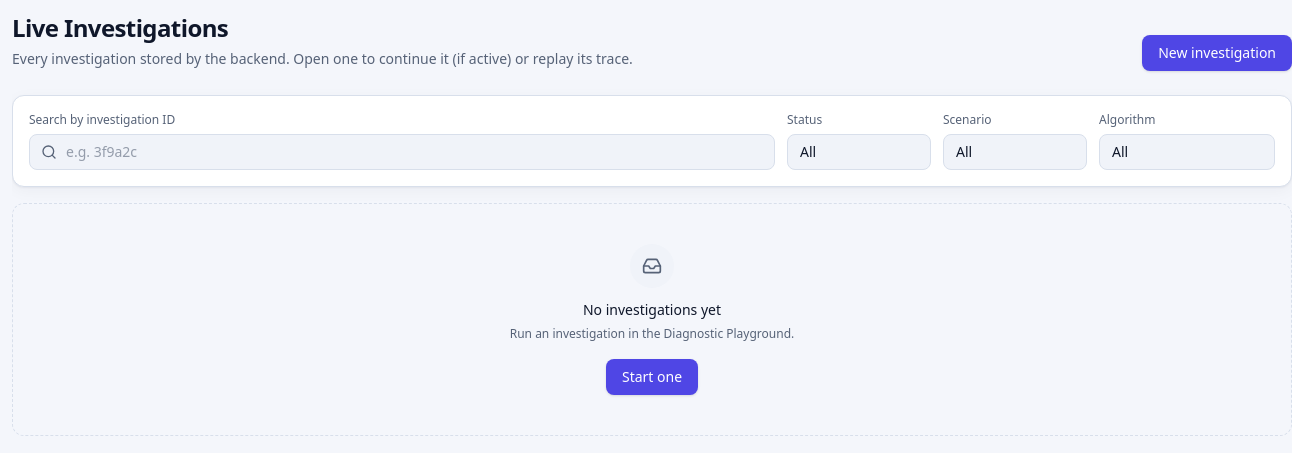
Test case: Investigations › distinguishes 'no data' from 'no matches'
Expected: the text "No investigations yet" is shown, x1=583 y1=300 x2=721 y2=320
Select "Declared" in the dropdown labelled "Status" at (859, 152), box x1=787 y1=134 x2=931 y2=170
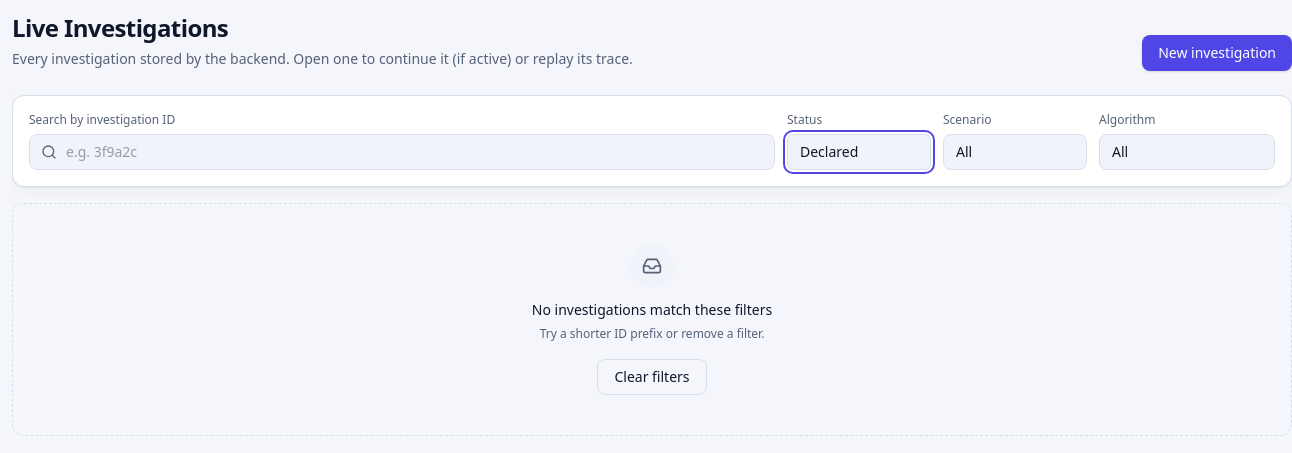
Result: the text "No investigations match these filters" is shown at x1=532 y1=300 x2=772 y2=320
Click the button "Clear filters".
click(652, 377)  # box x1=597 y1=359 x2=706 y2=395
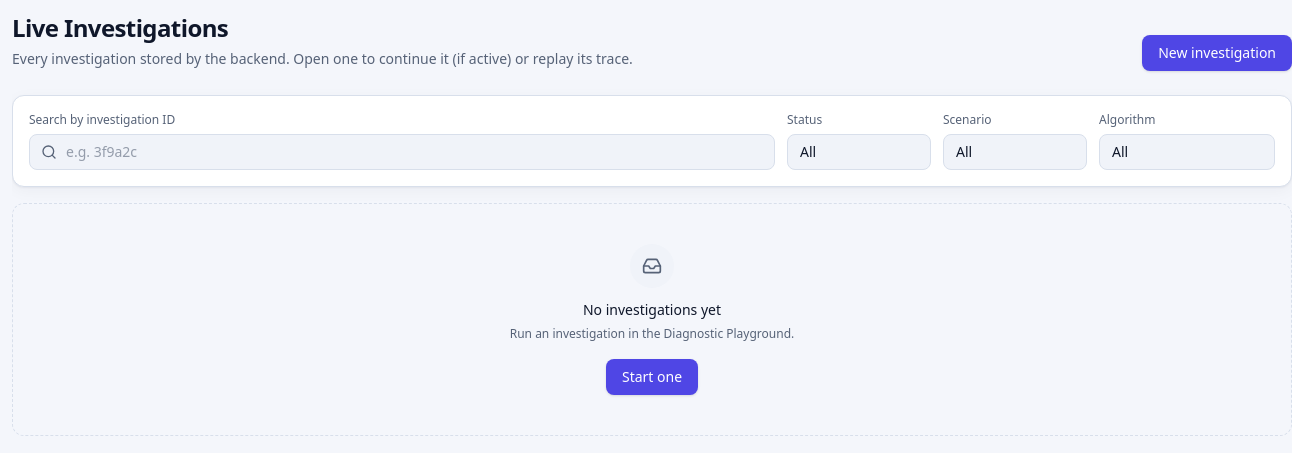
Result: the text "No investigations yet" is shown at x1=583 y1=300 x2=721 y2=320
